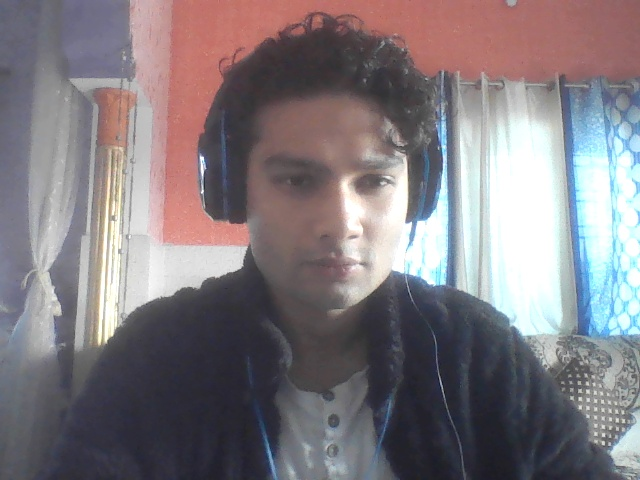real: (211, 22, 433, 336)
